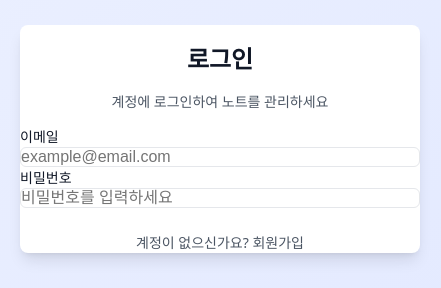
Test: Login 페이지 › 폼 유효성 검증 › 짧은 비밀번호면 에러가 표시된다
Check: the password field labelled "비밀번호" is shown, box [20,188,420,208]
Step 1. Type "test@example.com" into the field labelled "이메일" → (220, 157), box [20,147,420,167]
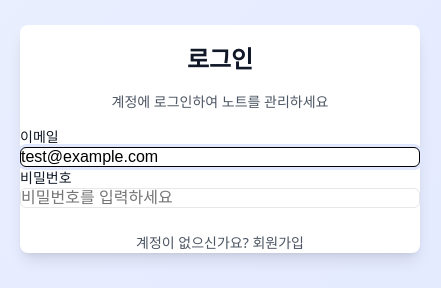
Step 2. Type "12345" into the password field labelled "비밀번호" → (220, 198), box [20,188,420,208]
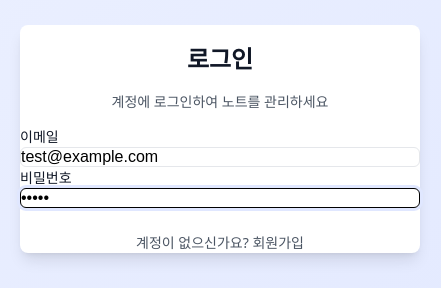
Step 3. Click the button "로그인" → (220, 220), box [20,208,420,232]
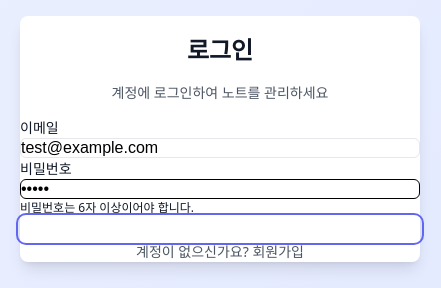
Check: the text "비밀번호는 6자 이상이어야 합니다." is shown, box [20,199,194,216]
